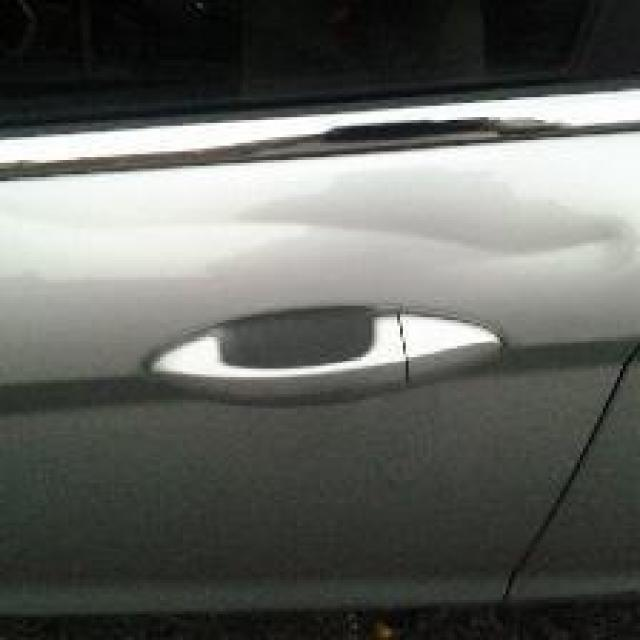damaged: (2, 174, 638, 274)
